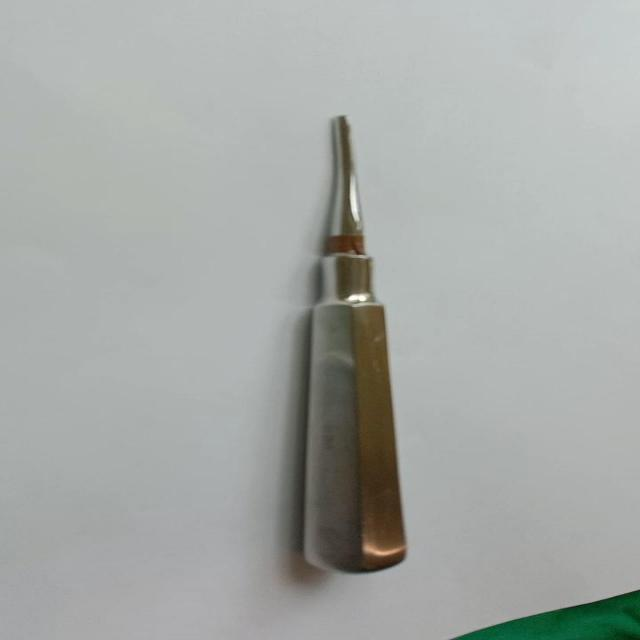Coupland1: (293, 112, 418, 580)
